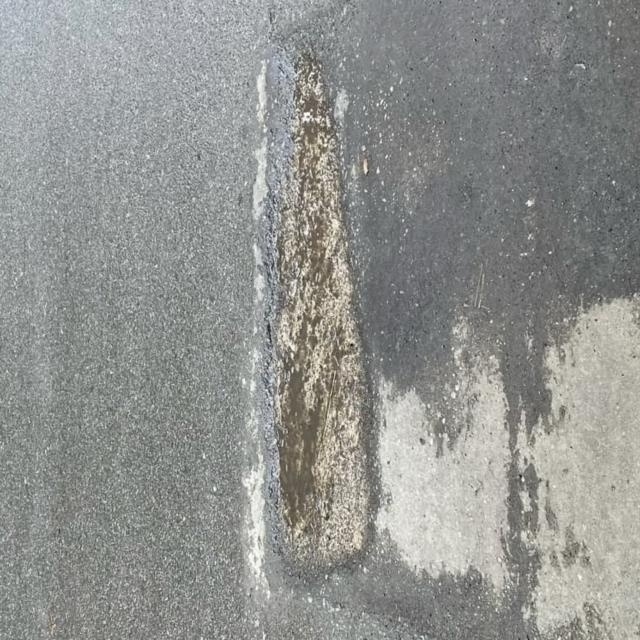pothole: (188, 12, 450, 616)
